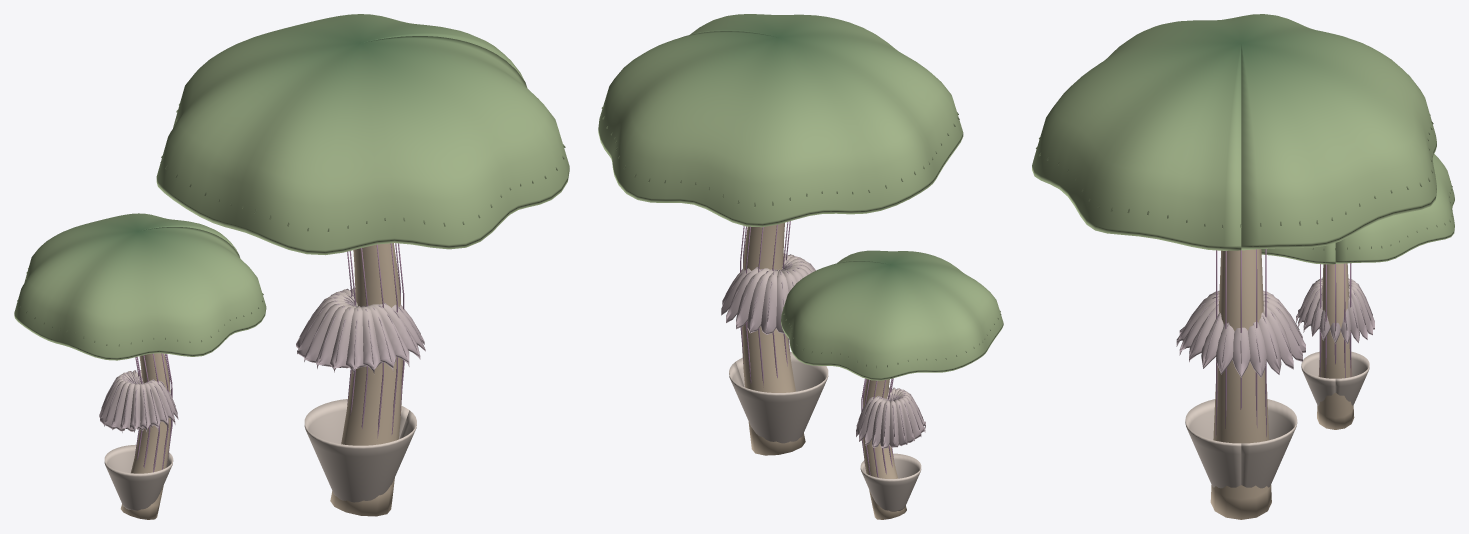
The model's file is enchanted-deathcap.glb.
The picture shows the model from 3 angles, left to right: view 1: azimuth 30°, elevation 25°; view 2: azimuth 150°, elevation 25°; view 3: azimuth 270°, elevation 25°; orthographic projection. The views are drawn at different scales.
Visible parts, largest first — view 1: enchanted-deathcap-sculpted-details; view 2: enchanted-deathcap-sculpted-details; view 3: enchanted-deathcap-sculpted-details.
Boxes of the visible parts, box(x1,y1,x2,y2) form: enchanted-deathcap-sculpted-details: box(14, 14, 569, 519); enchanted-deathcap-sculpted-details: box(598, 14, 1003, 519); enchanted-deathcap-sculpted-details: box(1032, 14, 1454, 519).
Size of the model in its own units: 1.04 by 1 by 0.8264.
